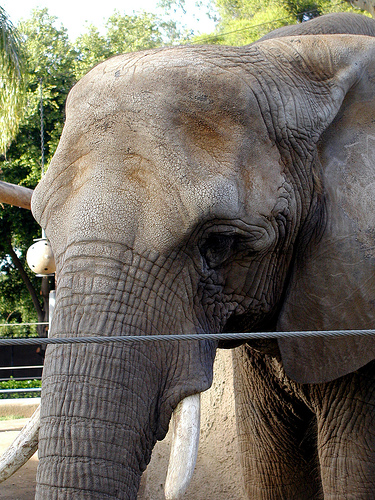elephant: (24, 28, 371, 500)
